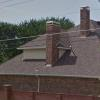Chimney: (39, 17, 60, 72)
